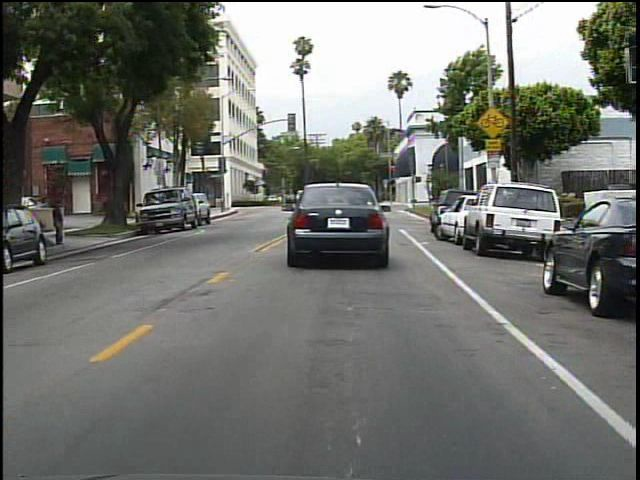person: (53, 197, 71, 249)
